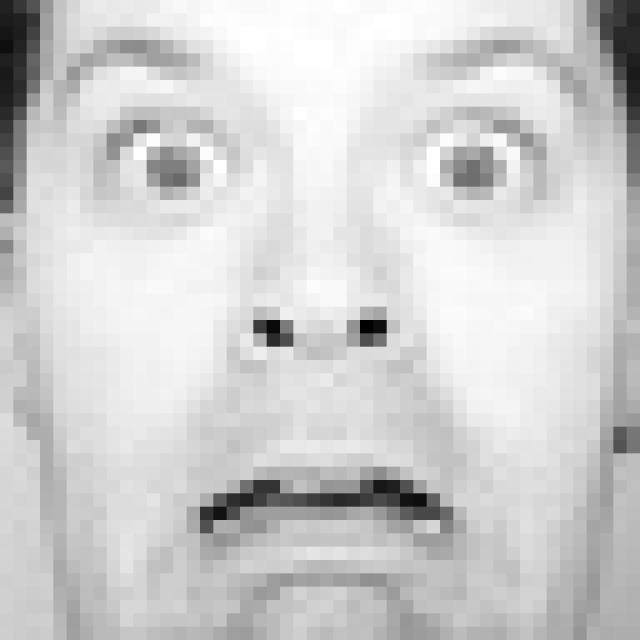fear: (54, 31, 589, 598)
